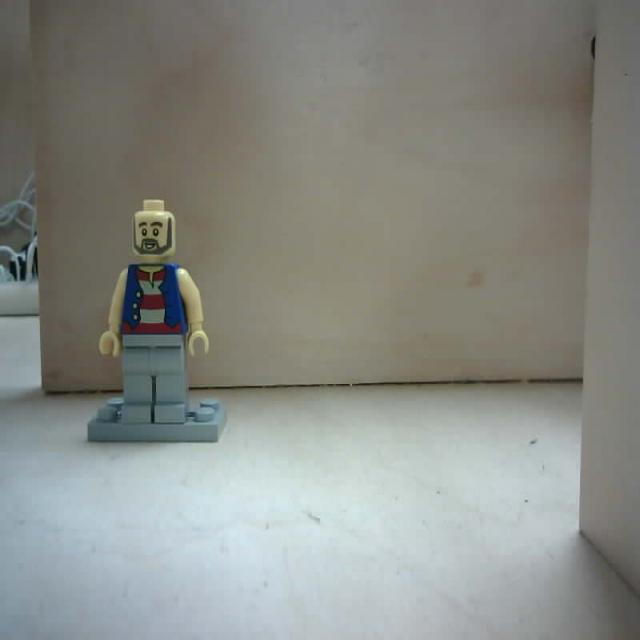Lego-People: (85, 199, 229, 446)
